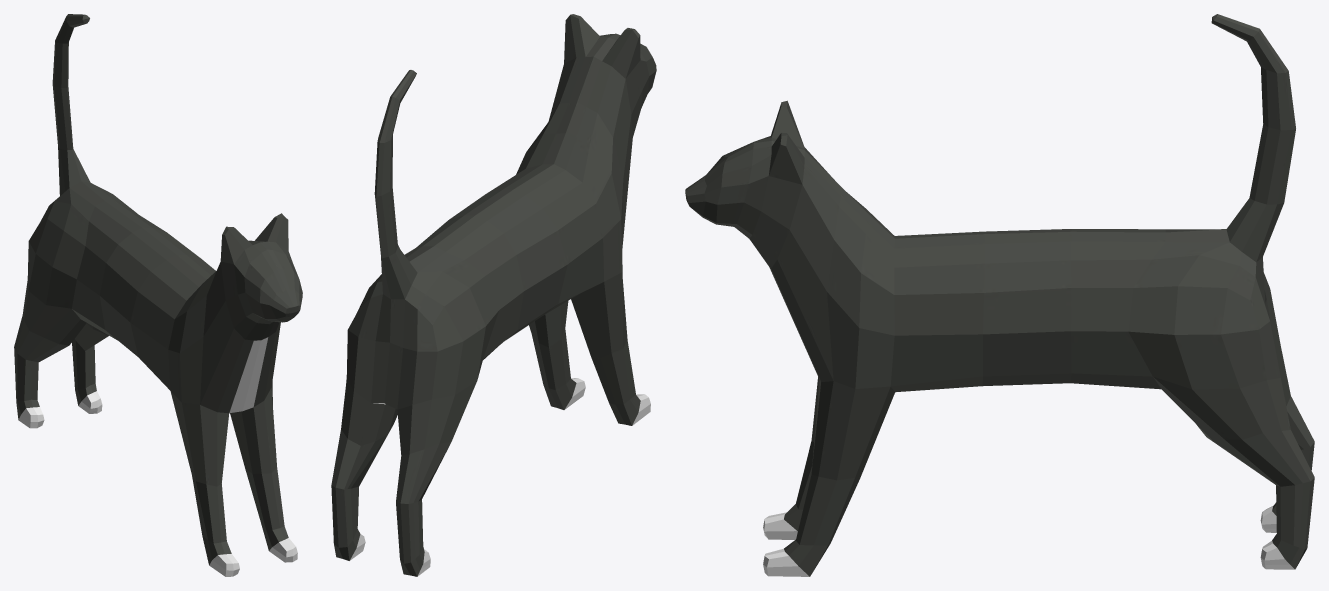
The model's file is Cat.glb.
3 renders of one model, left to right at view 1: azimuth 30°, elevation 25°; view 2: azimuth 150°, elevation 25°; view 3: azimuth 270°, elevation 25°, orthographic. The views are drawn at different scales.
Visible parts, largest first — view 1: 02catFinal; view 2: 02catFinal; view 3: 02catFinal.
Part boxes in pixels (x1=…): 02catFinal: x1=14, y1=14, x2=302, y2=576; 02catFinal: x1=331, y1=14, x2=656, y2=576; 02catFinal: x1=685, y1=14, x2=1314, y2=576.
Size of the model in its own units: 0.2011 by 0.8261 by 0.871.
Materials: 1 (1 with a texture image).
